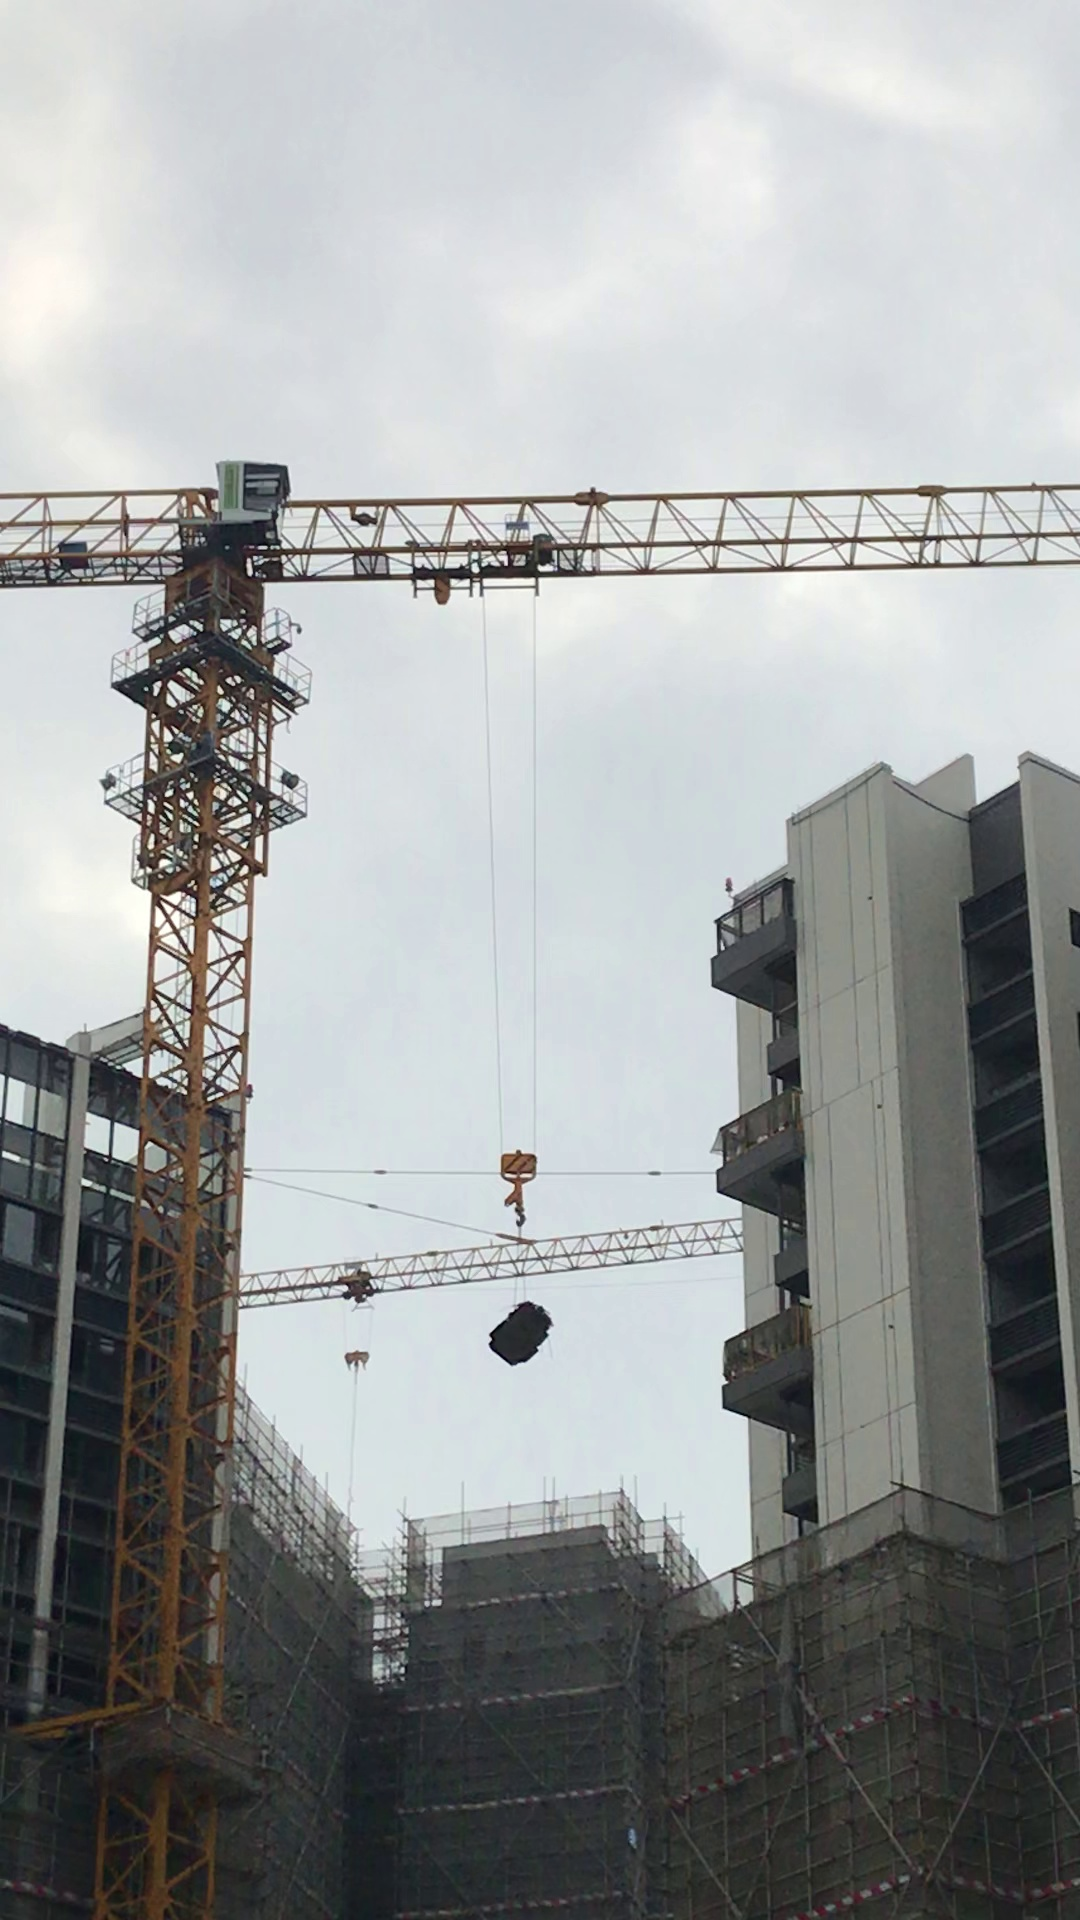board: (471, 1288, 571, 1379)
hook: (485, 1135, 564, 1236), (326, 1337, 388, 1390)
